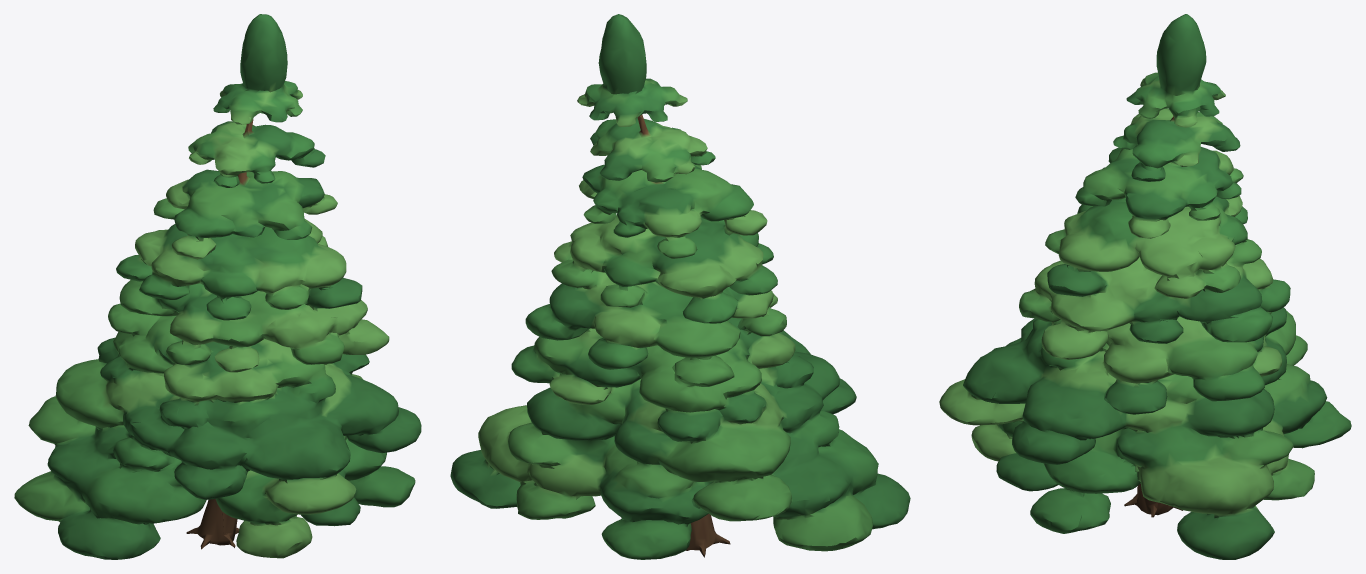
File: pine_mature_tall_lean.glb
The picture shows the model from 3 angles, left to right: view 1: azimuth 30°, elevation 25°; view 2: azimuth 150°, elevation 25°; view 3: azimuth 270°, elevation 25°; orthographic projection. The views are drawn at different scales.
Parts seen in each view (by area): view 1: pine_mature_tall_lean_LOD0; view 2: pine_mature_tall_lean_LOD0; view 3: pine_mature_tall_lean_LOD0.
Boxes of the visible parts, bbox=[...] form: pine_mature_tall_lean_LOD0: bbox=[14, 14, 421, 559]; pine_mature_tall_lean_LOD0: bbox=[450, 14, 910, 559]; pine_mature_tall_lean_LOD0: bbox=[939, 14, 1351, 559].
Size of what is drawn, in the model's own units: 6.02 by 7.65 by 5.45.
